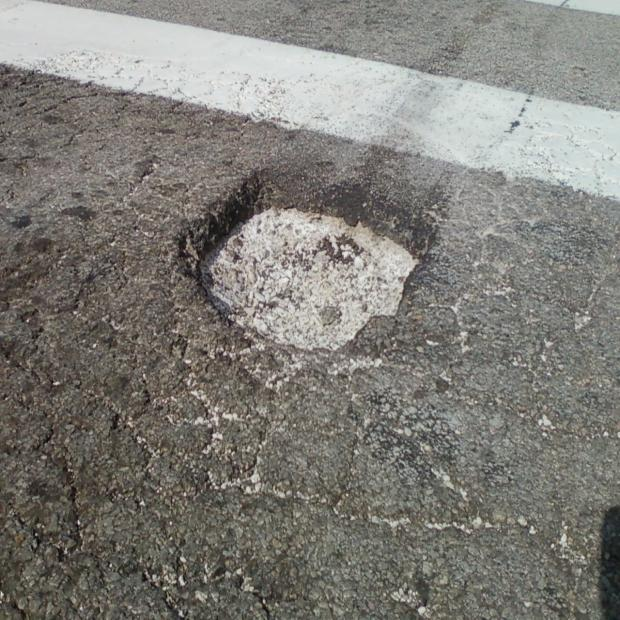lubang: (180, 151, 447, 389)
